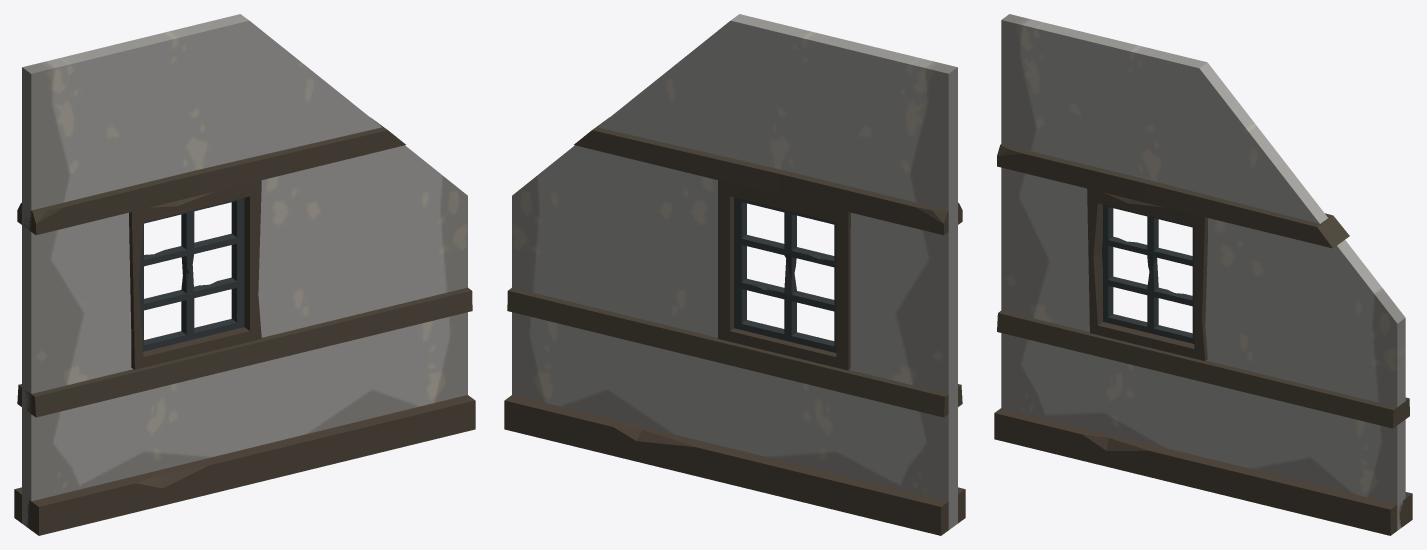
Rendered from kingdom_SM_Bld_House_Wall_Cut_Window_02.gltf.
3 renders of one model, left to right at view 1: azimuth 30°, elevation 25°; view 2: azimuth 150°, elevation 25°; view 3: azimuth 330°, elevation 25°, orthographic. The views are drawn at different scales.
Visible parts, largest first — view 1: SM_Bld_House_Wall_Cut_Window_02; view 2: SM_Bld_House_Wall_Cut_Window_02; view 3: SM_Bld_House_Wall_Cut_Window_02.
Boxes of the visible parts, left/top/right/bottom form: SM_Bld_House_Wall_Cut_Window_02: left=14, top=14, right=475, bottom=535; SM_Bld_House_Wall_Cut_Window_02: left=504, top=14, right=965, bottom=535; SM_Bld_House_Wall_Cut_Window_02: left=994, top=14, right=1412, bottom=535.
Size of the model in its own units: 2.5 by 2.5 by 0.242.
1 material, 1 textured.
